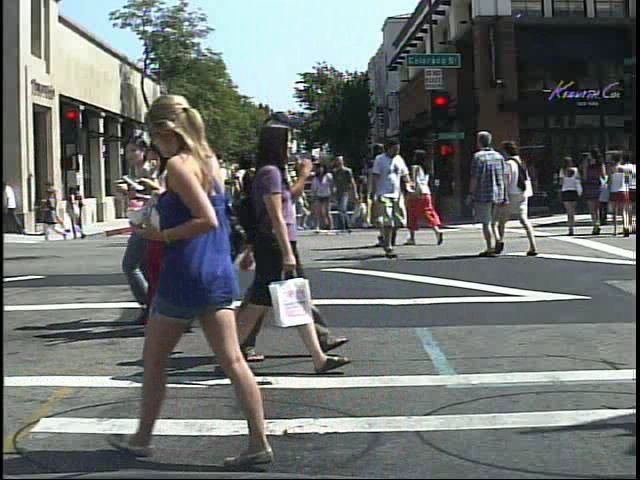person: (126, 80, 306, 475), (203, 118, 348, 380), (131, 133, 224, 343), (267, 105, 337, 366), (118, 130, 171, 332), (468, 127, 511, 264), (372, 133, 418, 260), (365, 134, 406, 252), (234, 150, 276, 261), (195, 143, 235, 259), (268, 147, 312, 252), (503, 133, 539, 258), (228, 149, 266, 253), (199, 152, 237, 252), (408, 143, 444, 248), (556, 151, 587, 237), (173, 171, 194, 240), (67, 182, 87, 232)
